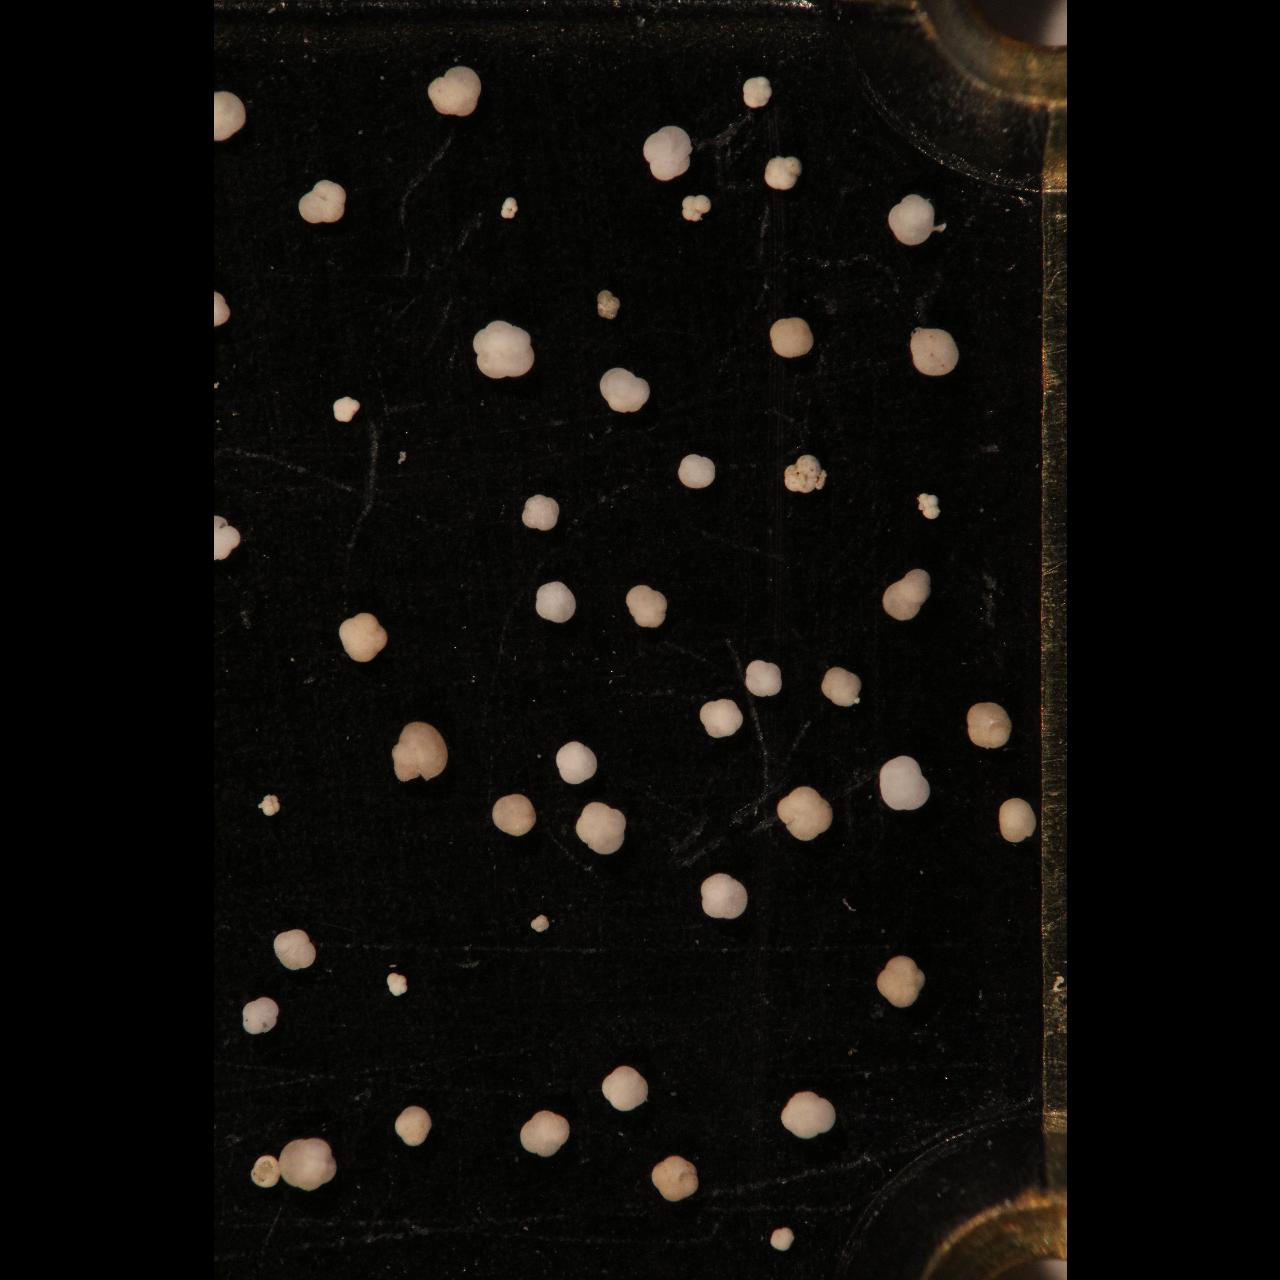planktic: (472, 318, 536, 381), (389, 720, 449, 784), (775, 783, 833, 842), (279, 1136, 338, 1194), (878, 753, 933, 813), (885, 192, 945, 247), (873, 953, 930, 1010), (880, 565, 933, 625), (427, 63, 483, 118), (642, 124, 694, 184), (779, 1089, 837, 1141), (574, 799, 626, 856), (336, 611, 389, 665), (908, 325, 960, 377), (519, 1109, 571, 1159), (598, 367, 652, 415), (699, 872, 749, 922), (648, 1155, 700, 1204), (297, 177, 347, 226), (489, 790, 538, 839), (966, 700, 1014, 750), (600, 1064, 651, 1112), (767, 315, 816, 361), (533, 579, 579, 625), (272, 926, 318, 972), (625, 583, 669, 629), (996, 795, 1037, 845), (554, 738, 598, 785), (393, 1103, 436, 1149), (697, 697, 744, 740), (821, 665, 864, 709), (783, 454, 825, 497), (213, 89, 246, 143), (239, 996, 279, 1039), (678, 451, 717, 491), (763, 155, 803, 193), (744, 659, 784, 697), (522, 493, 560, 532), (213, 511, 241, 563), (742, 74, 775, 110), (248, 1155, 278, 1190), (914, 490, 942, 524), (680, 193, 710, 223), (594, 287, 621, 320), (332, 395, 361, 422), (213, 290, 231, 333), (768, 1226, 796, 1252), (384, 971, 409, 999), (258, 791, 280, 818), (529, 911, 551, 937), (501, 195, 518, 222)
